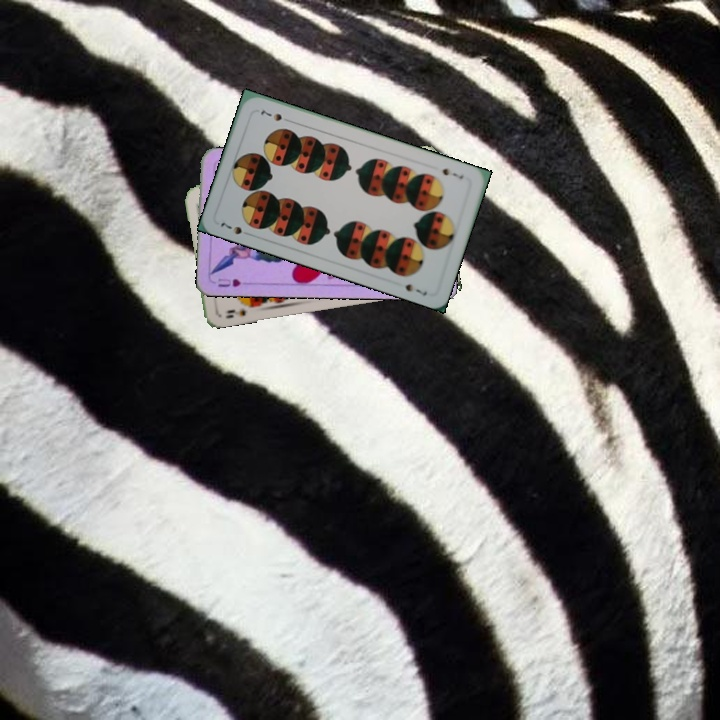HU: (214, 274, 243, 289)
S7: (216, 218, 254, 238), (438, 164, 466, 182)
S9: (222, 300, 257, 321)
